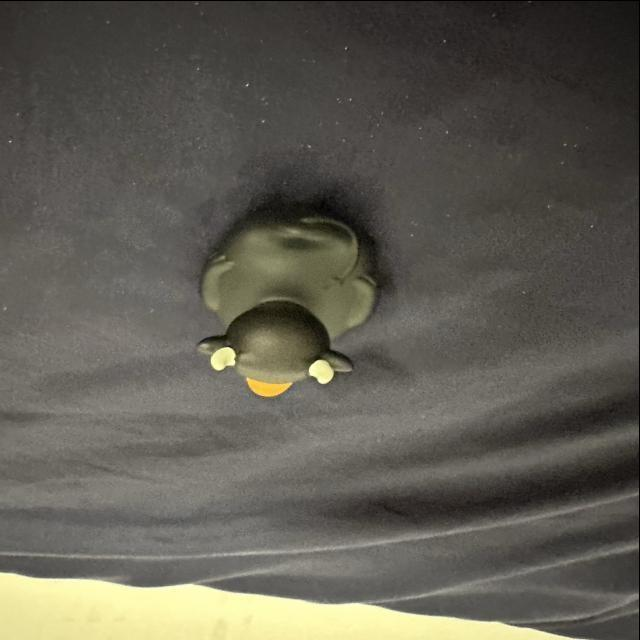rubber-duck: (196, 201, 375, 395)
